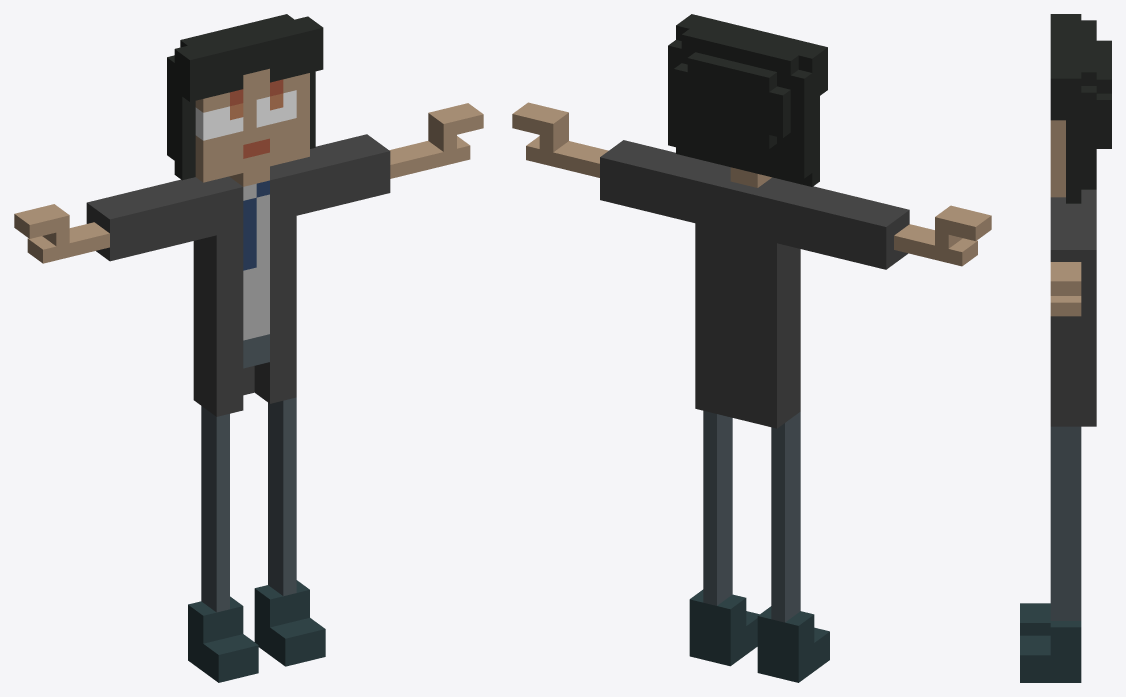
The model's file is professor1_nm.fbx.
The picture shows the model from 3 angles, left to right: view 1: azimuth 30°, elevation 25°; view 2: azimuth 150°, elevation 25°; view 3: azimuth 270°, elevation 25°; orthographic projection. The views are drawn at different scales.
Parts seen in each view (by area): view 1: 多边形; view 2: 多边形; view 3: 多边形.
Boxes of the visible parts, x1,y1,x2,y2 form: 多边形: [14, 14, 483, 682]; 多边形: [512, 14, 991, 682]; 多边形: [1020, 14, 1111, 682].
Bounding box in the file's own units: 3.4 × 4.4 × 0.6.
Materials: 1 (1 with a texture image).
